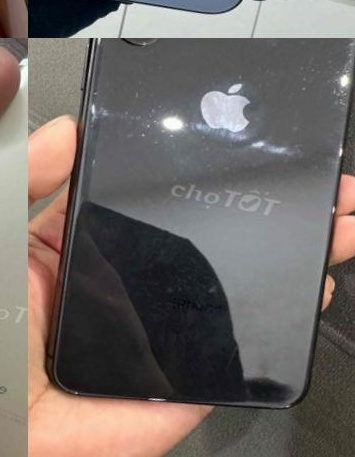scratch: (104, 87, 190, 174), (287, 38, 355, 118), (191, 136, 255, 192), (113, 38, 182, 84), (76, 87, 124, 141), (227, 57, 281, 102), (135, 381, 173, 409), (63, 378, 99, 404), (333, 132, 355, 168), (317, 195, 342, 225), (78, 153, 109, 174), (275, 392, 293, 414), (144, 38, 169, 49)
